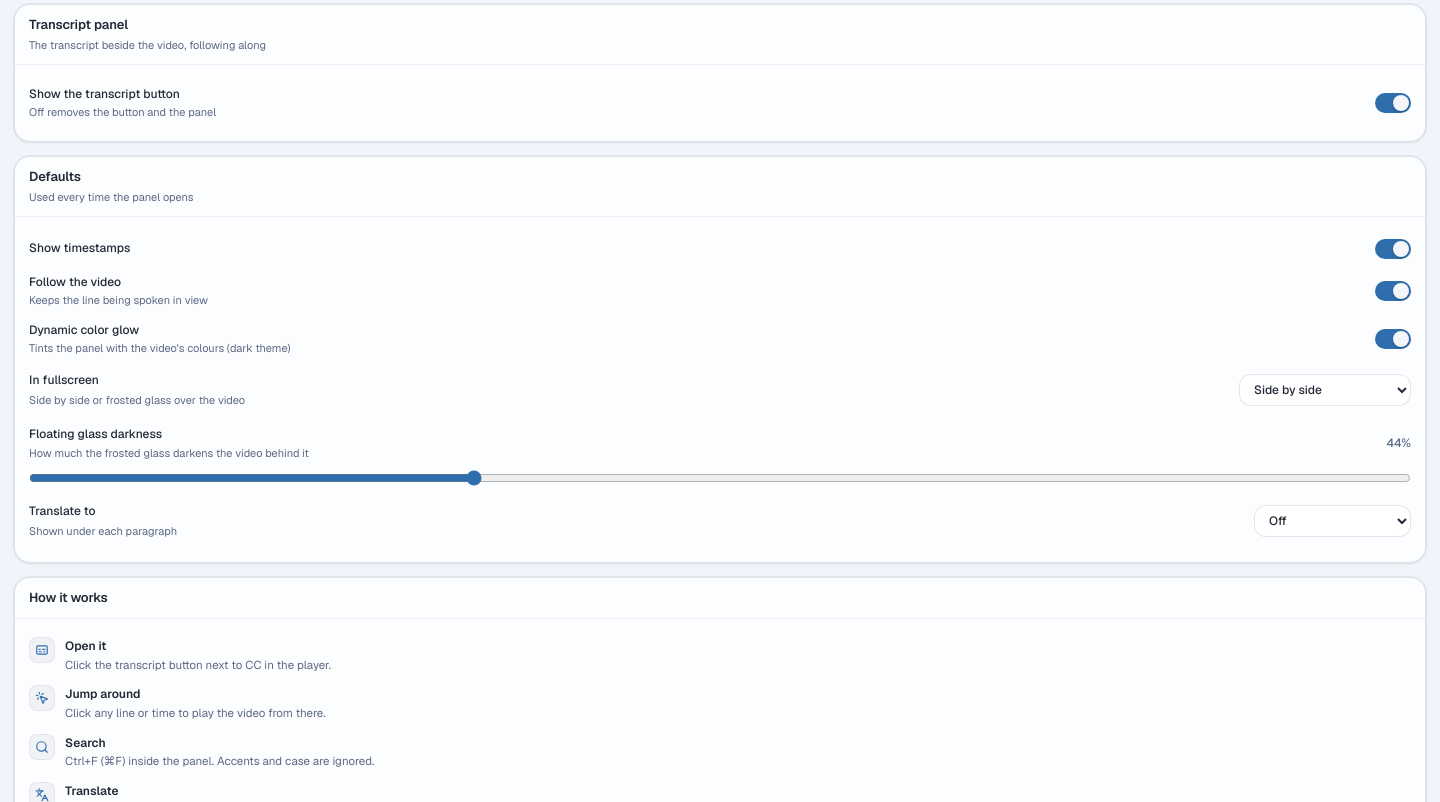
Test: <TranscriptTab /> › renders the floating glass darkness slider defaulting to 44 and saves changes
Set the slider named "Floating glass darkness" to "80" at point(1130, 478), box x1=29 y1=470 x2=1411 y2=486
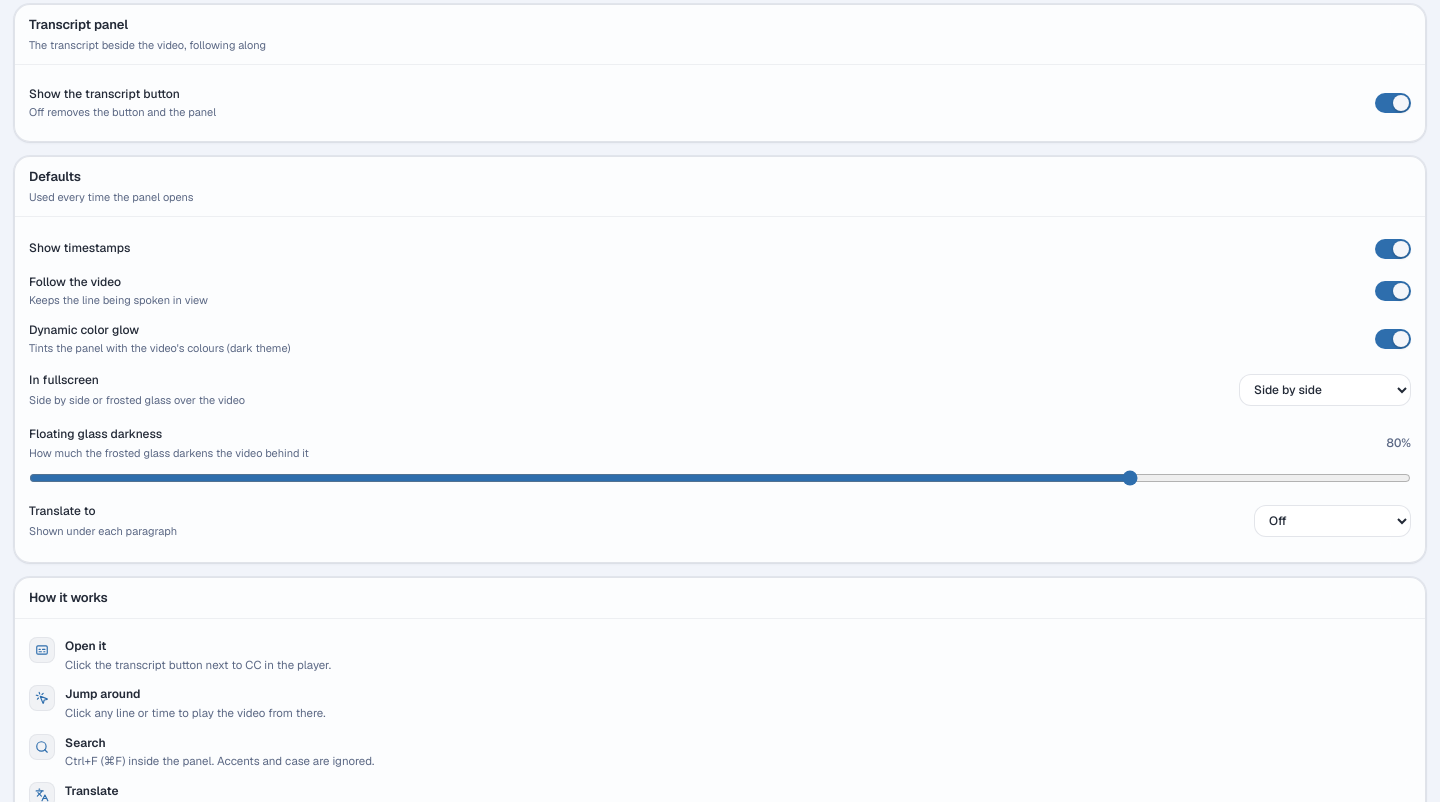
Check: the text "80%" is shown, box x1=1387 y1=434 x2=1411 y2=453
